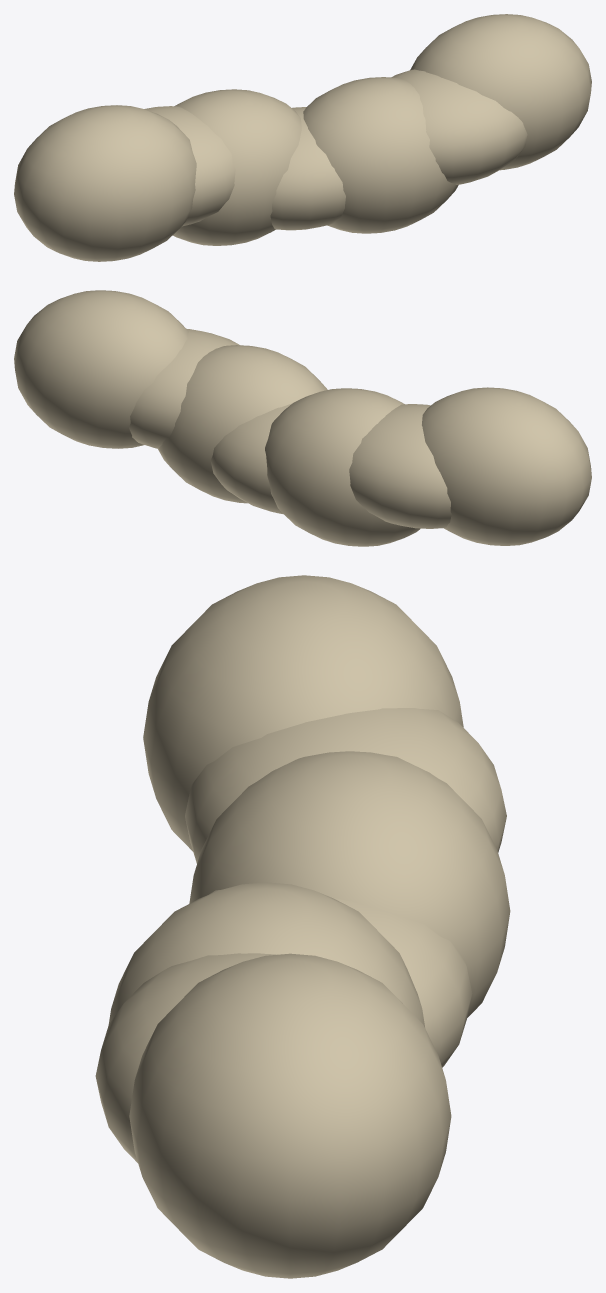
The model's file is cloud.glb.
3 renders of one model, top to bottom at view 1: azimuth 30°, elevation 25°; view 2: azimuth 150°, elevation 25°; view 3: azimuth 270°, elevation 25°, orthographic. The views are drawn at different scales.
Parts seen in each view (by area): view 1: Cloud; view 2: Cloud; view 3: Cloud.
Boxes of the visible parts, x1,y1,x2,y2 form: Cloud: [14, 14, 591, 261]; Cloud: [14, 290, 591, 546]; Cloud: [95, 575, 510, 1278].
Bounding box in the file's own units: 5.2 × 1.49 × 1.67.
